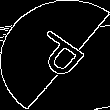P_SE: (20, 25, 90, 85)
